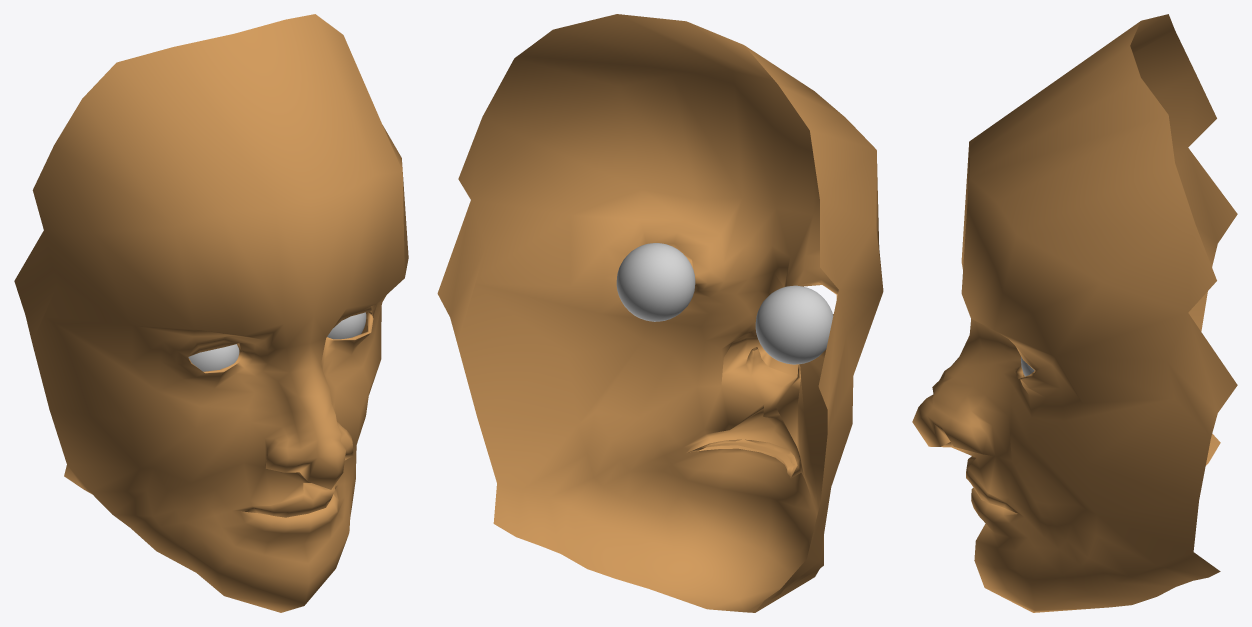
3 renders of one model, left to right at view 1: azimuth 30°, elevation 25°; view 2: azimuth 150°, elevation 25°; view 3: azimuth 270°, elevation 25°, orthographic. The views are drawn at different scales.
Visible parts, largest first — view 1: Head_Plane, Eye_l_Sphere.001, Eye_l.001_Sphere.003; view 2: Head_Plane, Eye_l.001_Sphere.003, Eye_l_Sphere.001; view 3: Head_Plane.
Boxes of the visible parts, x1,y1,x2,y2 form: Head_Plane: (14, 14, 408, 612); Eye_l_Sphere.001: (188, 344, 239, 371); Eye_l.001_Sphere.003: (327, 312, 366, 339); Head_Plane: (437, 14, 883, 612); Eye_l.001_Sphere.003: (616, 243, 695, 321); Eye_l_Sphere.001: (755, 285, 833, 364); Head_Plane: (912, 14, 1237, 612).
Size of the model in its own units: 2.28 by 3.52 by 1.83.
